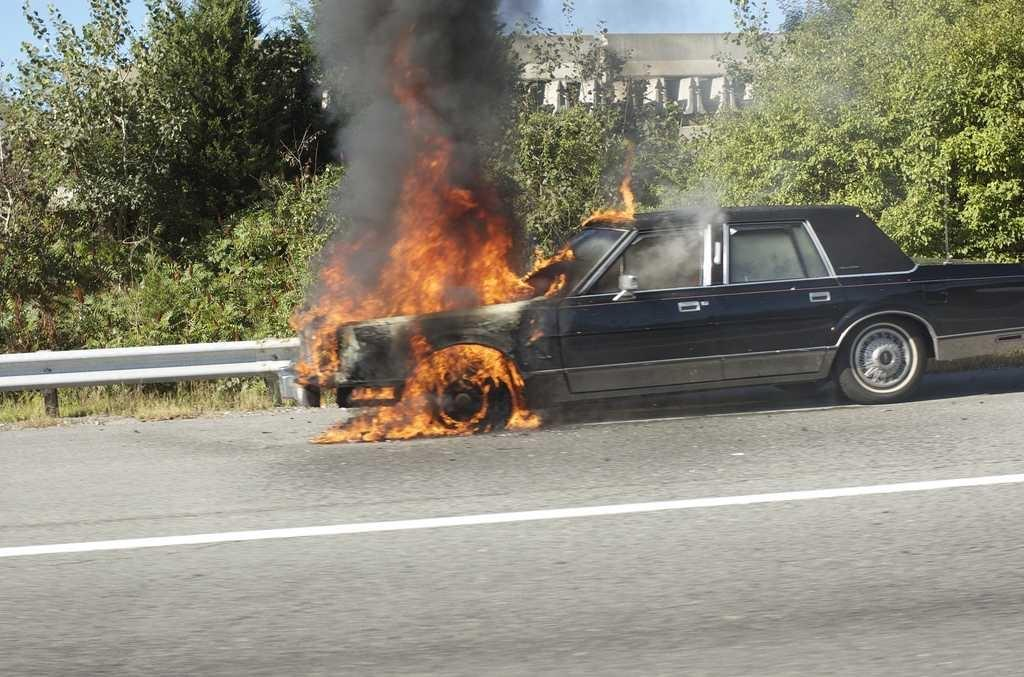fire: (400, 195, 450, 305), (350, 408, 423, 443), (425, 350, 515, 375), (485, 255, 520, 305)
smoke: (335, 10, 403, 185)
